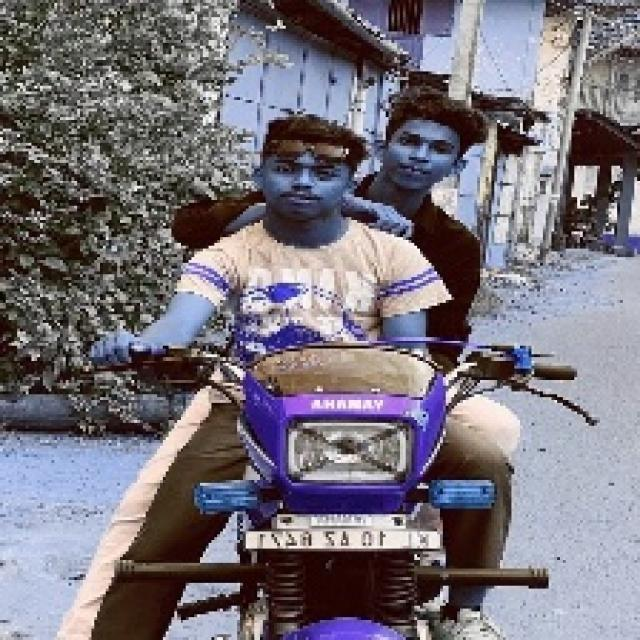bike: (198, 336, 538, 640)
